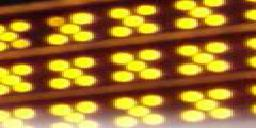LED: (50, 57, 98, 92)
